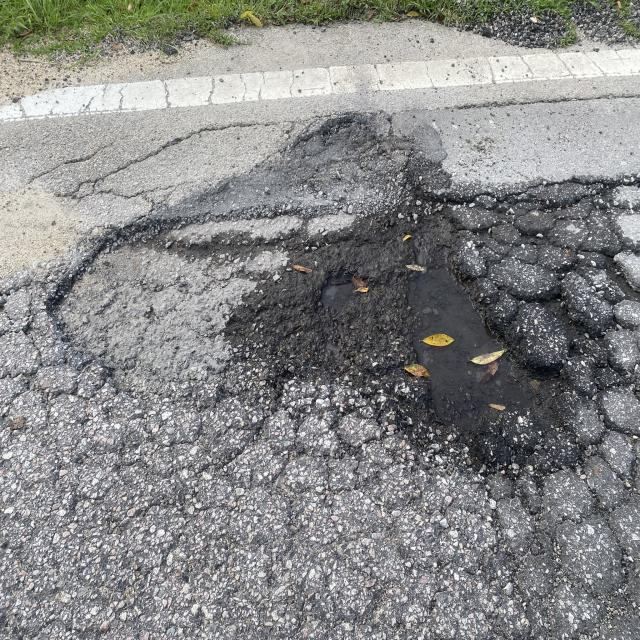pothole: (50, 96, 614, 541)
